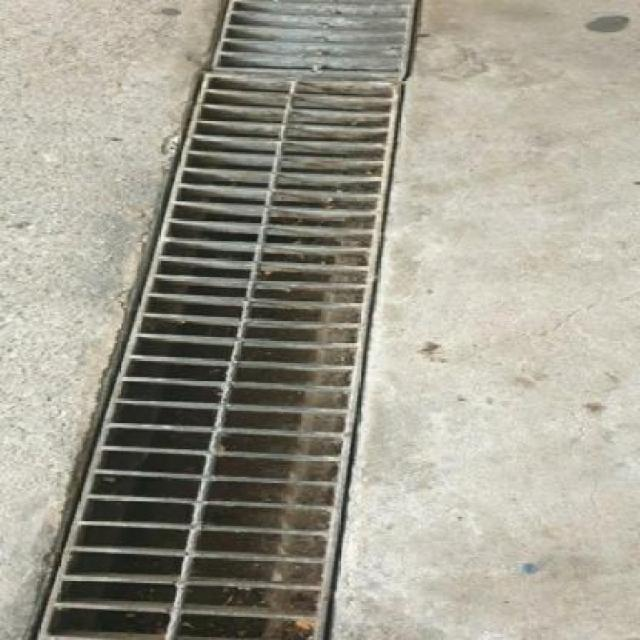Drain Hole: (129, 51, 440, 437)
